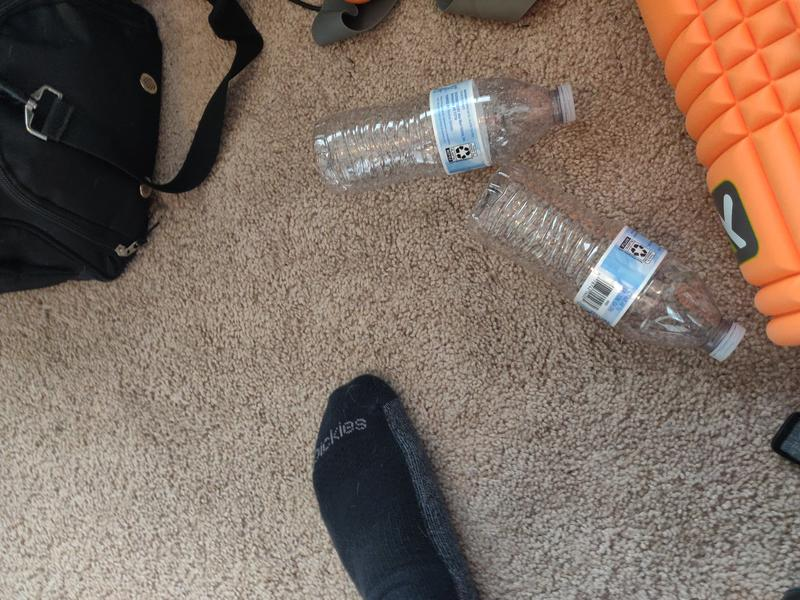bottle: (469, 164, 747, 364), (314, 77, 577, 193)
